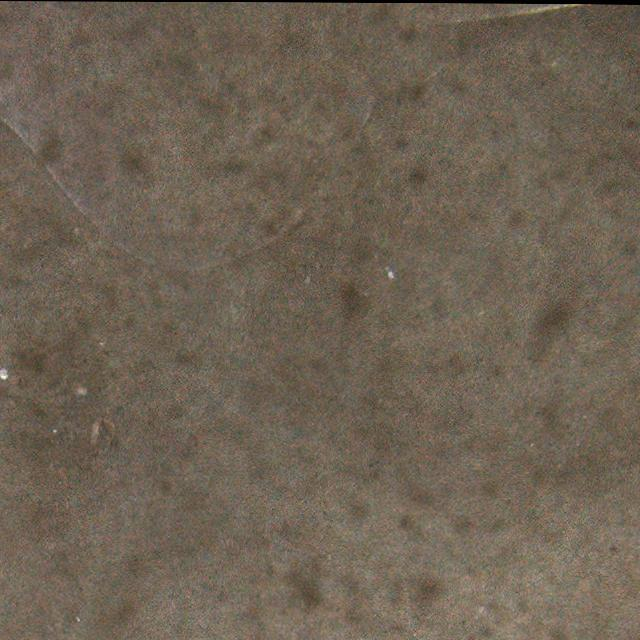skate: (0, 1, 592, 274)
